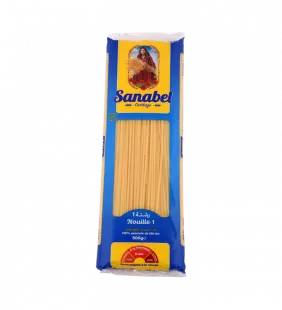SANABEL CARTHAGE: (85, 20, 196, 284)
